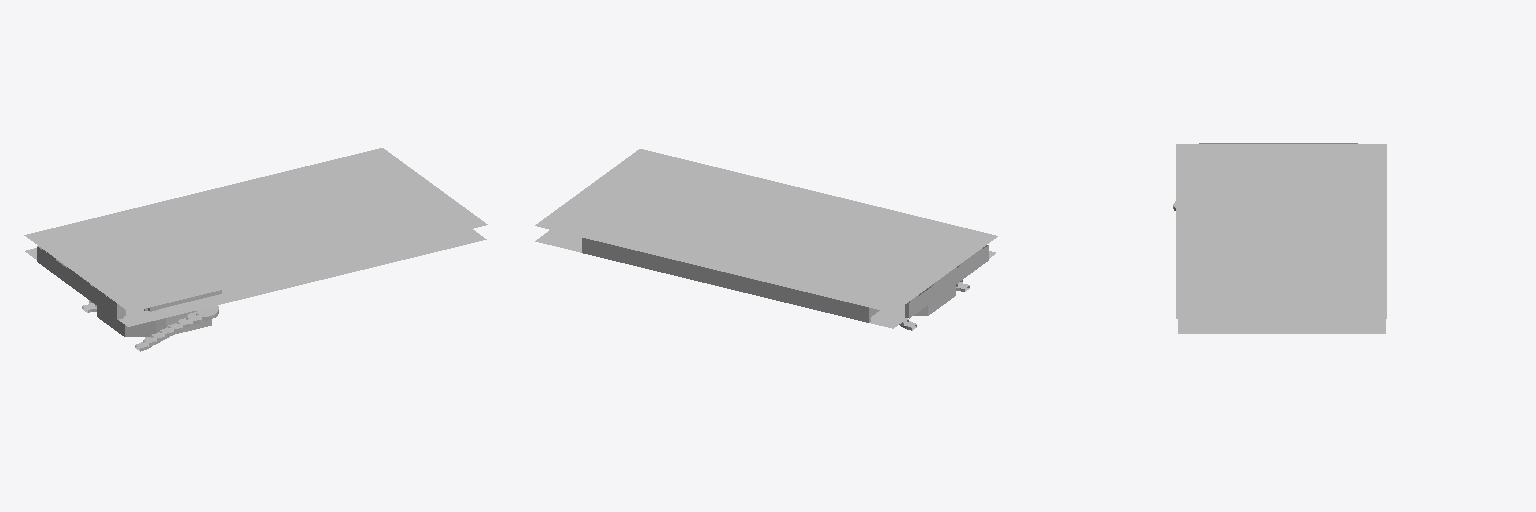
The model's file is computer science building2.obj.
3 views of the same model, side by side, from view 1: azimuth 30°, elevation 25°; view 2: azimuth 150°, elevation 25°; view 3: azimuth 270°, elevation 25° (orthographic).
Parts seen in each view (by area): view 1: Plane_Plane.002, Floor_Plane, West_Wall_Cube.001, Room2_Walls_Cube.002, Room2_Stairs_Cylinder; view 2: Plane_Plane.002, Classroom_Walls_Cube, West_Wall_Cube.001, Floor_Plane; view 3: Plane_Plane.002, Floor_Plane.
Part boxes in pixels (x1,y1,x2,y2): Plane_Plane.002: (24, 148, 487, 311); Floor_Plane: (25, 229, 486, 326); West_Wall_Cube.001: (37, 246, 125, 319); Room2_Walls_Cube.002: (97, 290, 221, 336); Room2_Stairs_Cylinder: (82, 300, 218, 351); Plane_Plane.002: (535, 149, 997, 312); Classroom_Walls_Cube: (582, 238, 879, 322); West_Wall_Cube.001: (905, 245, 988, 318); Floor_Plane: (535, 230, 995, 328); Plane_Plane.002: (1176, 144, 1386, 318); Floor_Plane: (1178, 319, 1385, 333).
Size of the model in its own units: 24.1 by 3.23 by 12.38.